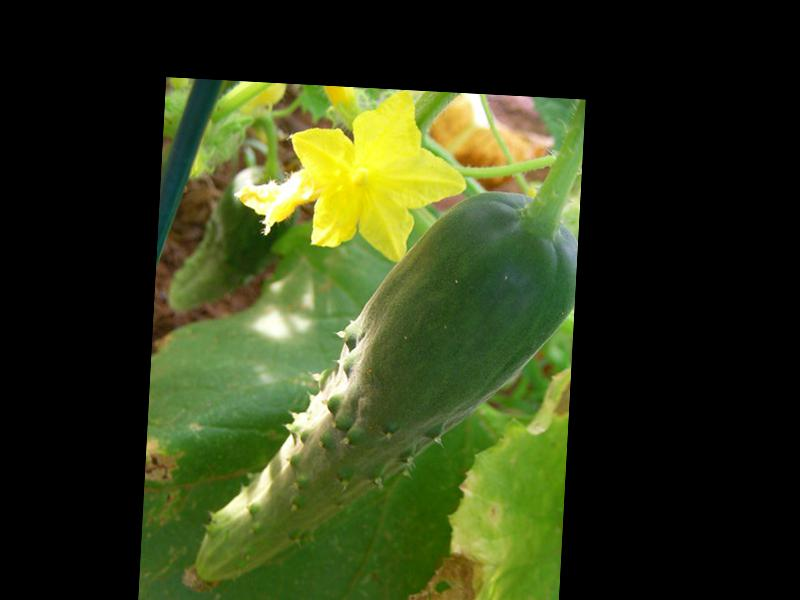Cucumber: (181, 176, 579, 600)
